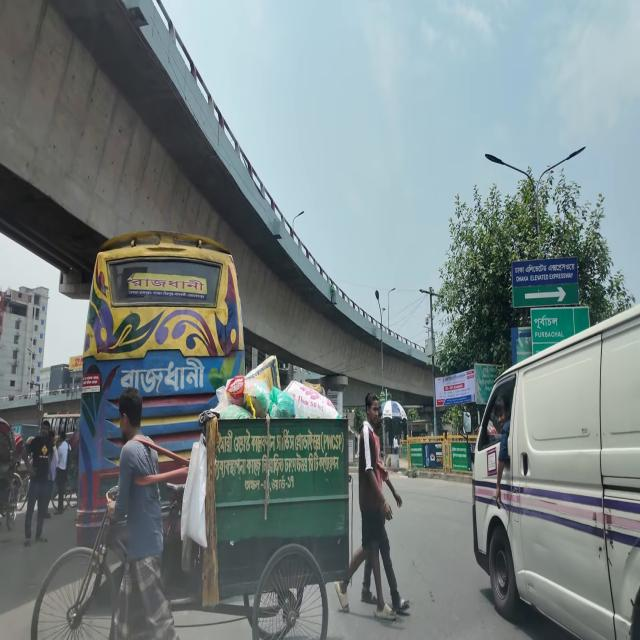person: (335, 393, 411, 620)
